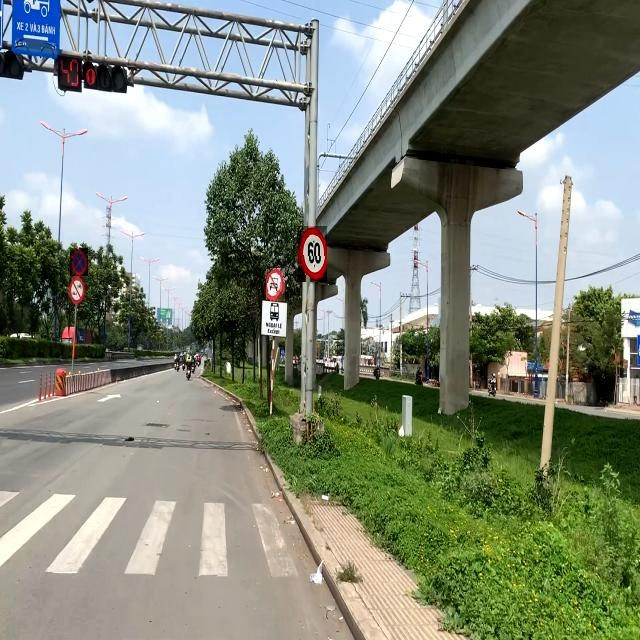bien_chi_dan: (298, 226, 327, 282), (266, 268, 285, 301), (70, 248, 88, 276)
